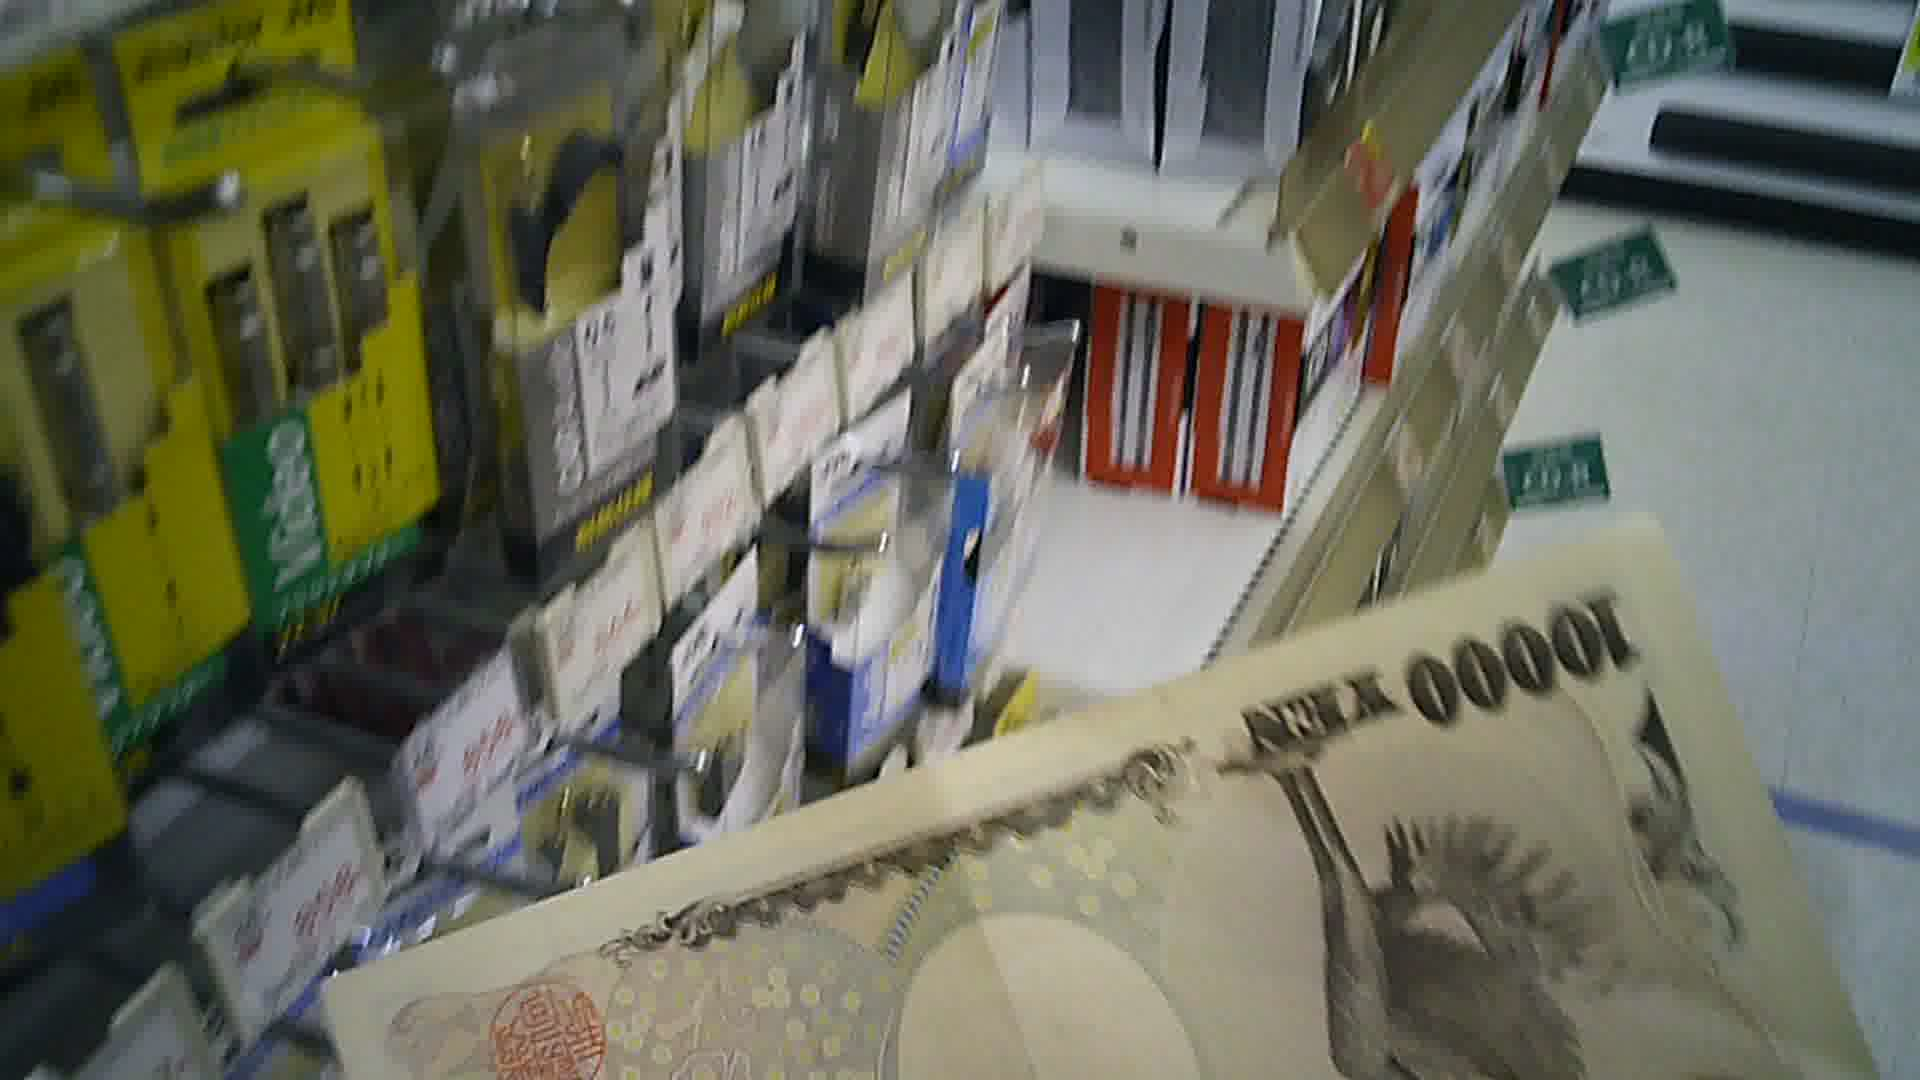10,000 Yen: (324, 527, 1913, 1073)
